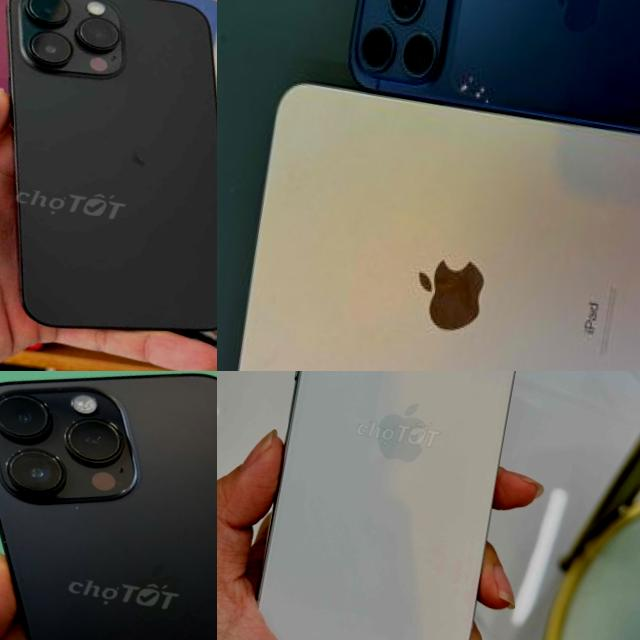scratch: (433, 41, 514, 120)
